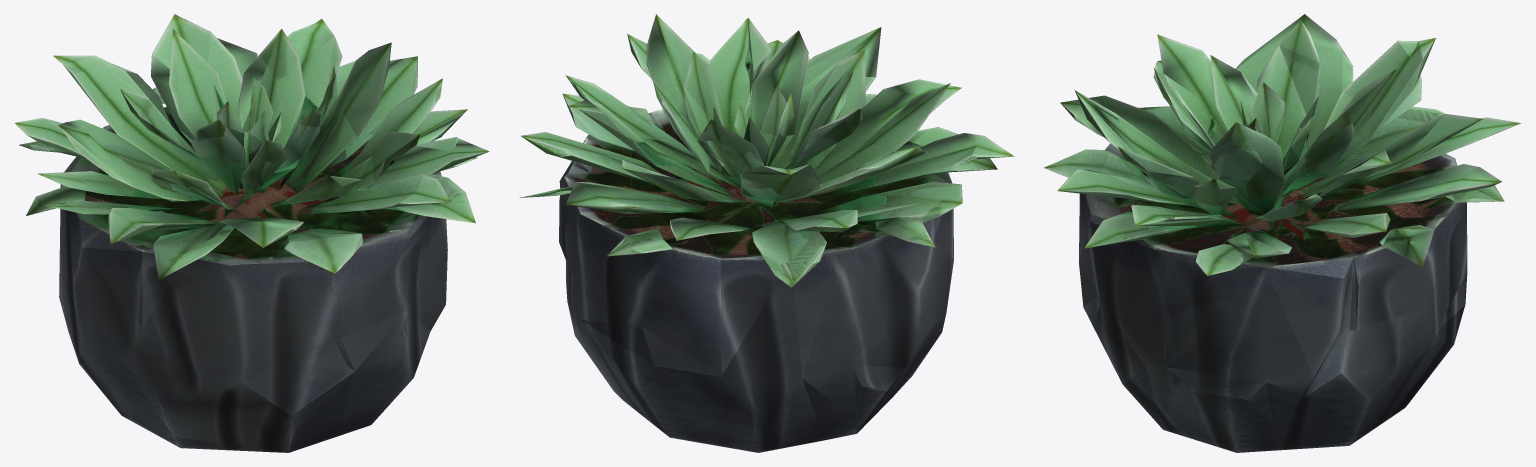
File: PR_StonePlanter.fbx
The picture shows the model from 3 angles, left to right: view 1: azimuth 30°, elevation 25°; view 2: azimuth 150°, elevation 25°; view 3: azimuth 270°, elevation 25°; orthographic projection.
Visible parts, largest first — view 1: Mesh_0; view 2: Mesh_0; view 3: Mesh_0.
Part boxes in pixels (x1,y1,x2,y2): Mesh_0: [15, 14, 489, 452]; Mesh_0: [519, 14, 1014, 452]; Mesh_0: [1044, 14, 1520, 452].
Bounding box in the file's own units: 186 × 147 × 190.
1 material, 1 textured.
